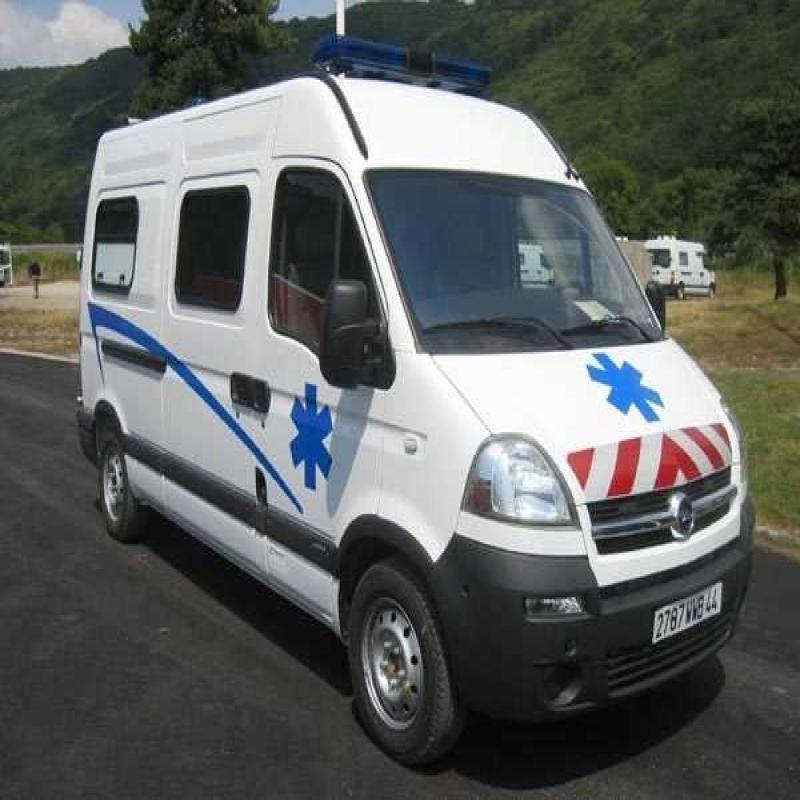AmbulanceSiren: (302, 13, 514, 100)
